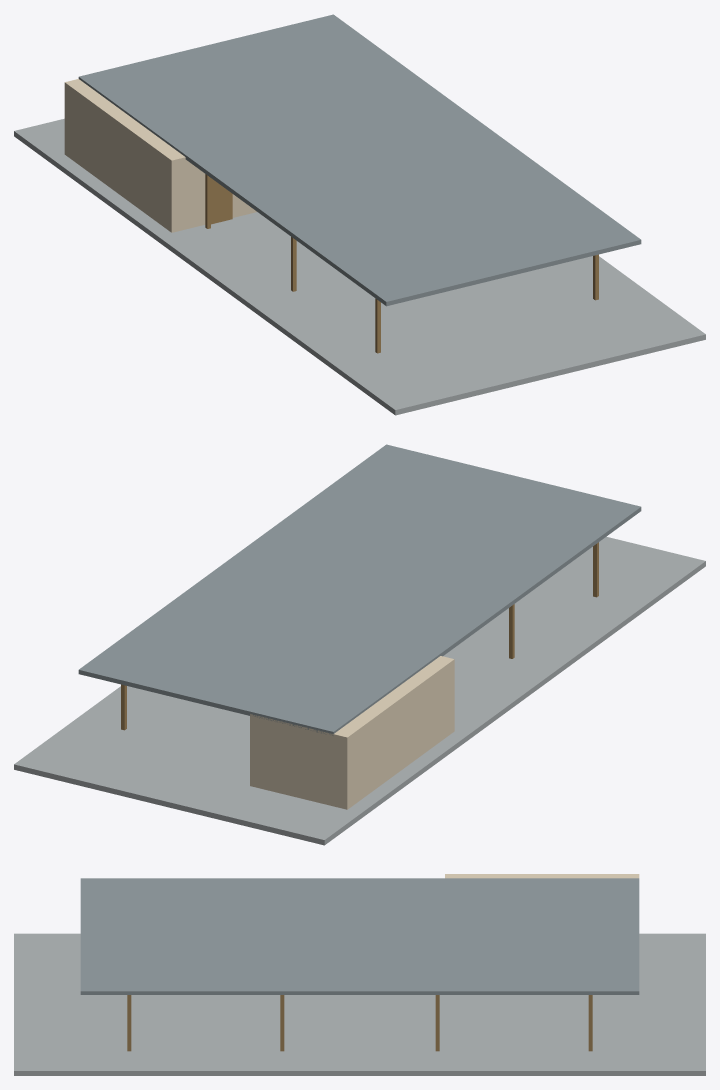
The model's file is transport-interchange.glb.
3 views of the same model, one above another, from view 1: azimuth 30°, elevation 25°; view 2: azimuth 150°, elevation 25°; view 3: azimuth 270°, elevation 25° (orthographic). The views are drawn at different scales.
Parts seen in each view (by area): view 1: platform-canopy-roof, tram-platform, interchange-service-wall, ground-contact-plinth, opening-front-service-door; view 2: platform-canopy-roof, tram-platform, interchange-service-wall, ground-contact-plinth; view 3: platform-canopy-roof, tram-platform, ground-contact-plinth, interchange-service-wall.
Boxes of the visible parts, left/top/right/bottom form: platform-canopy-roof: left=78, top=14, right=641, bottom=306; tram-platform: left=14, top=118, right=705, bottom=414; interchange-service-wall: left=64, top=79, right=256, bottom=232; ground-contact-plinth: left=14, top=132, right=705, bottom=415; opening-front-service-door: left=211, top=178, right=232, bottom=224; platform-canopy-roof: left=78, top=444, right=641, bottom=735; tram-platform: left=14, top=536, right=705, bottom=844; interchange-service-wall: left=250, top=656, right=454, bottom=809; ground-contact-plinth: left=14, top=562, right=705, bottom=845; platform-canopy-roof: left=80, top=878, right=639, bottom=994; tram-platform: left=14, top=933, right=705, bottom=1075; ground-contact-plinth: left=14, top=1072, right=705, bottom=1075; interchange-service-wall: left=445, top=874, right=639, bottom=878.
Size of the model in its own units: 13.4 by 3.29 by 28.5.
